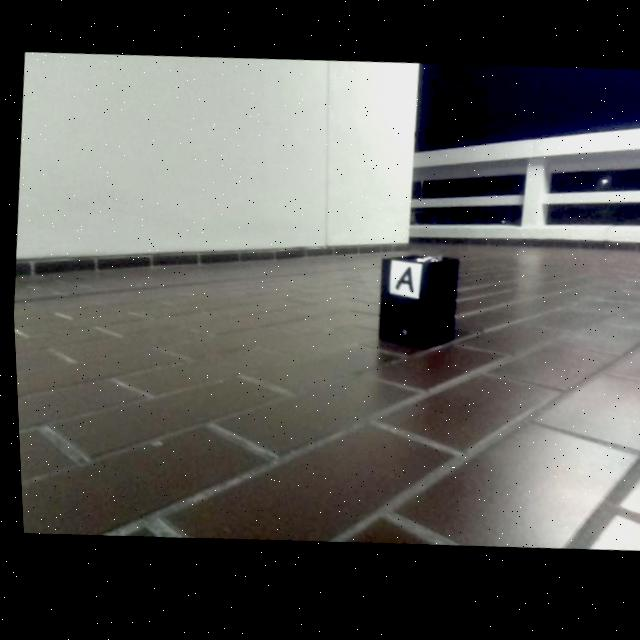A: (392, 271, 412, 298)
